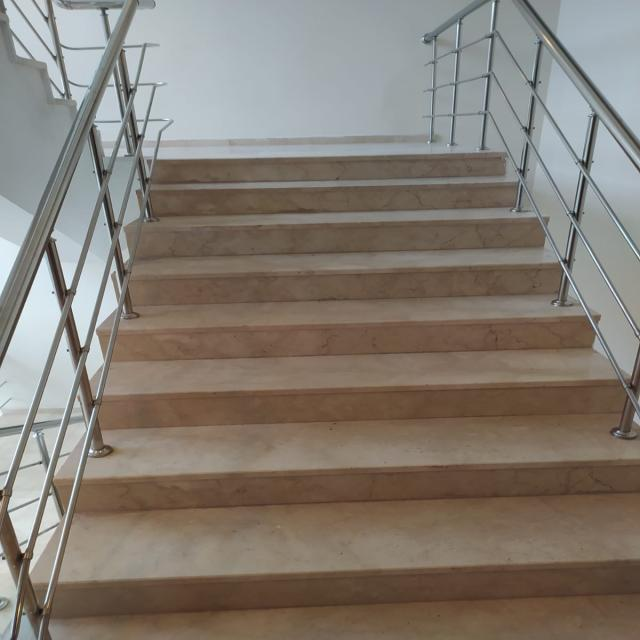stair: (20, 152, 634, 640)
